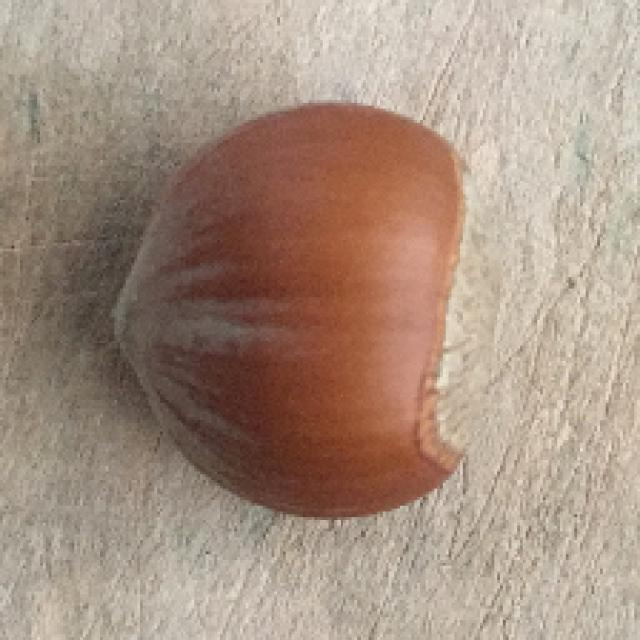QualityHazelnut: (117, 107, 502, 514)
